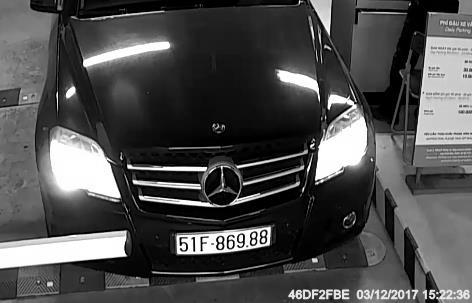License-plate: (165, 213, 283, 260)
